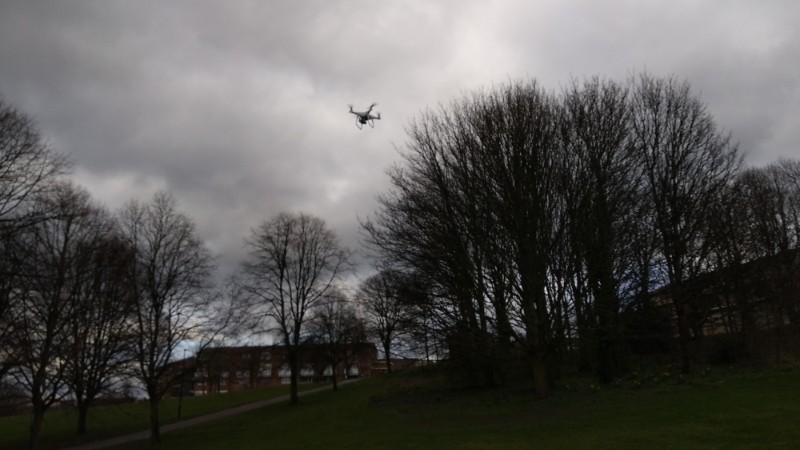drone: (344, 102, 384, 130)
